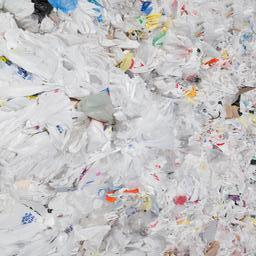plastic: (1, 1, 256, 256)
